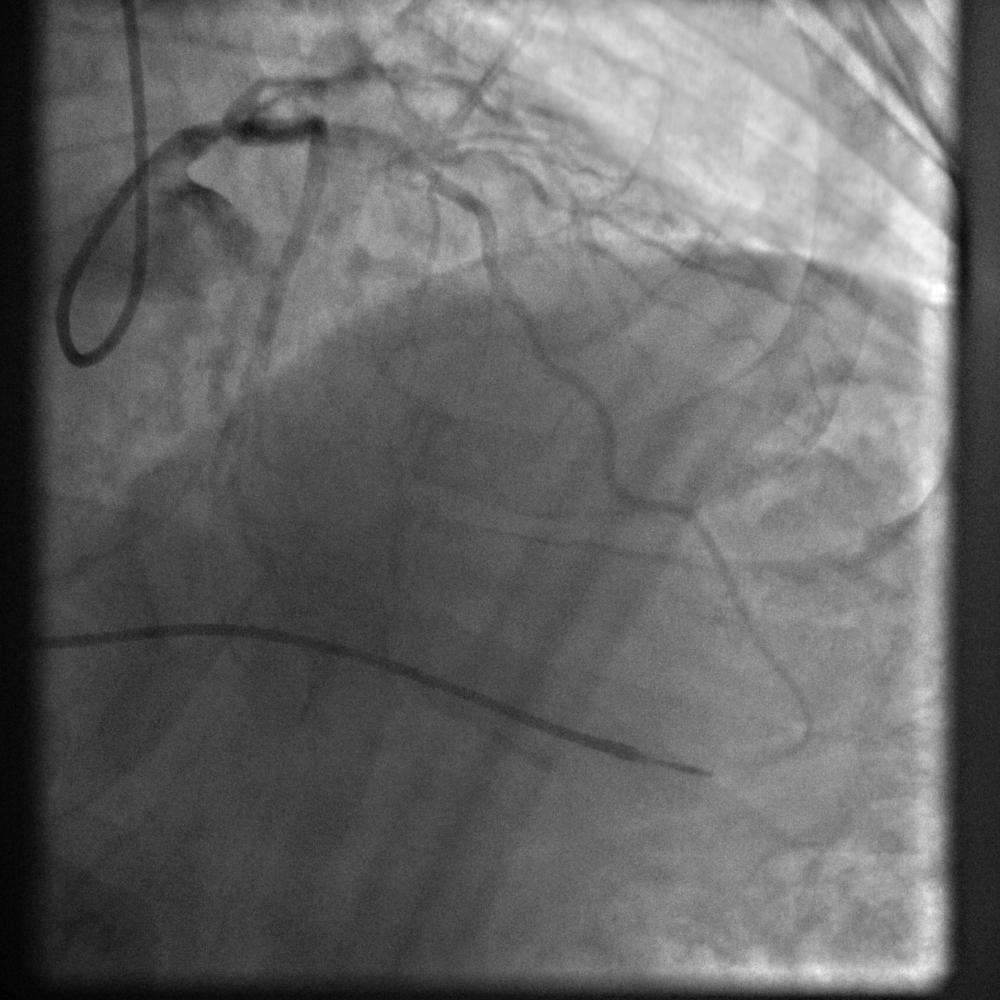Stenosis: (392, 127, 438, 179)
